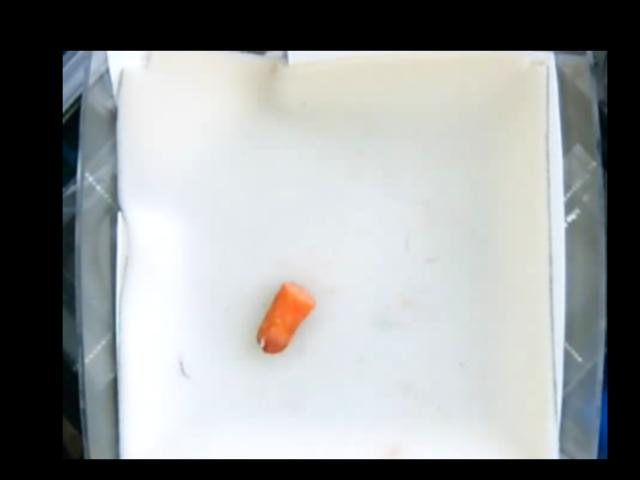Carrot: (257, 284, 317, 357)
